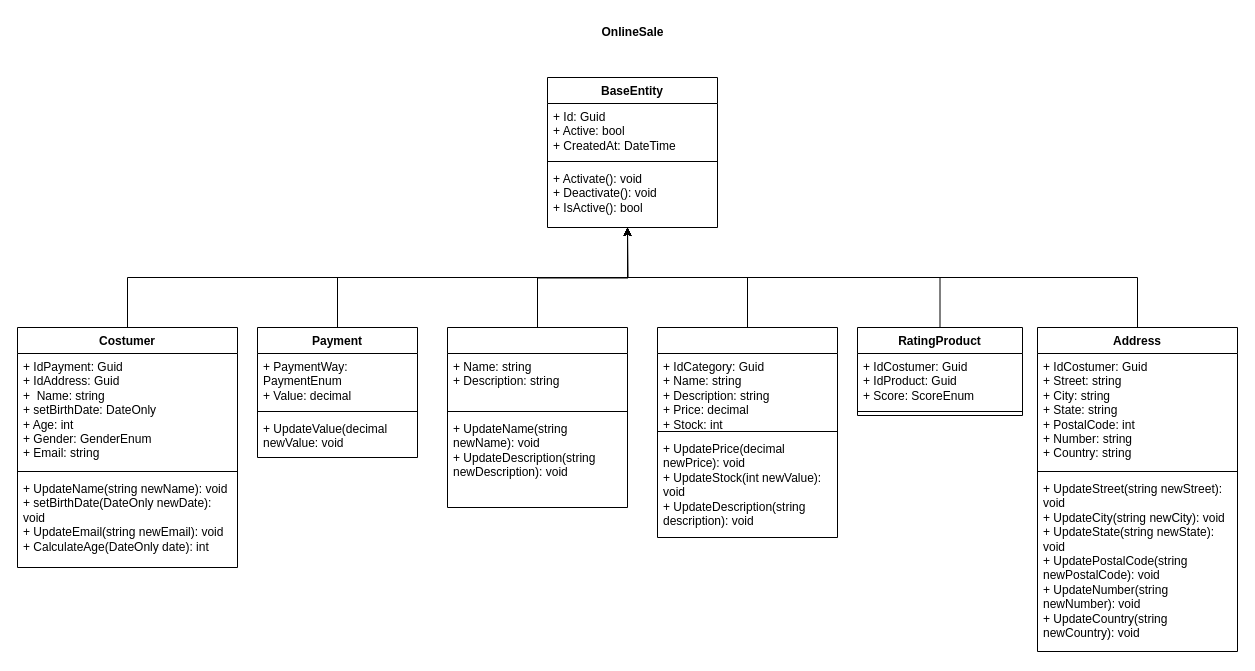
This 1255x671 diagram has some shape labels left out. Each missing label, with the box of its shape:
Category: (446, 326, 628, 508)
Product: (656, 326, 838, 538)
